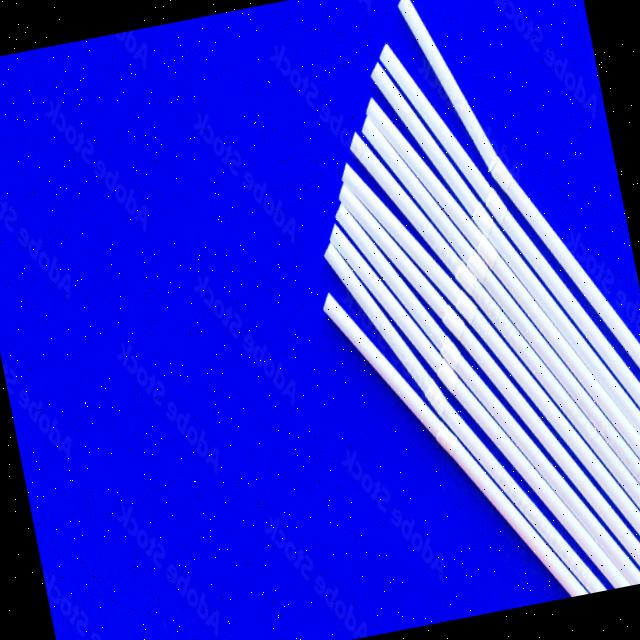plastic: (298, 265, 468, 518)
